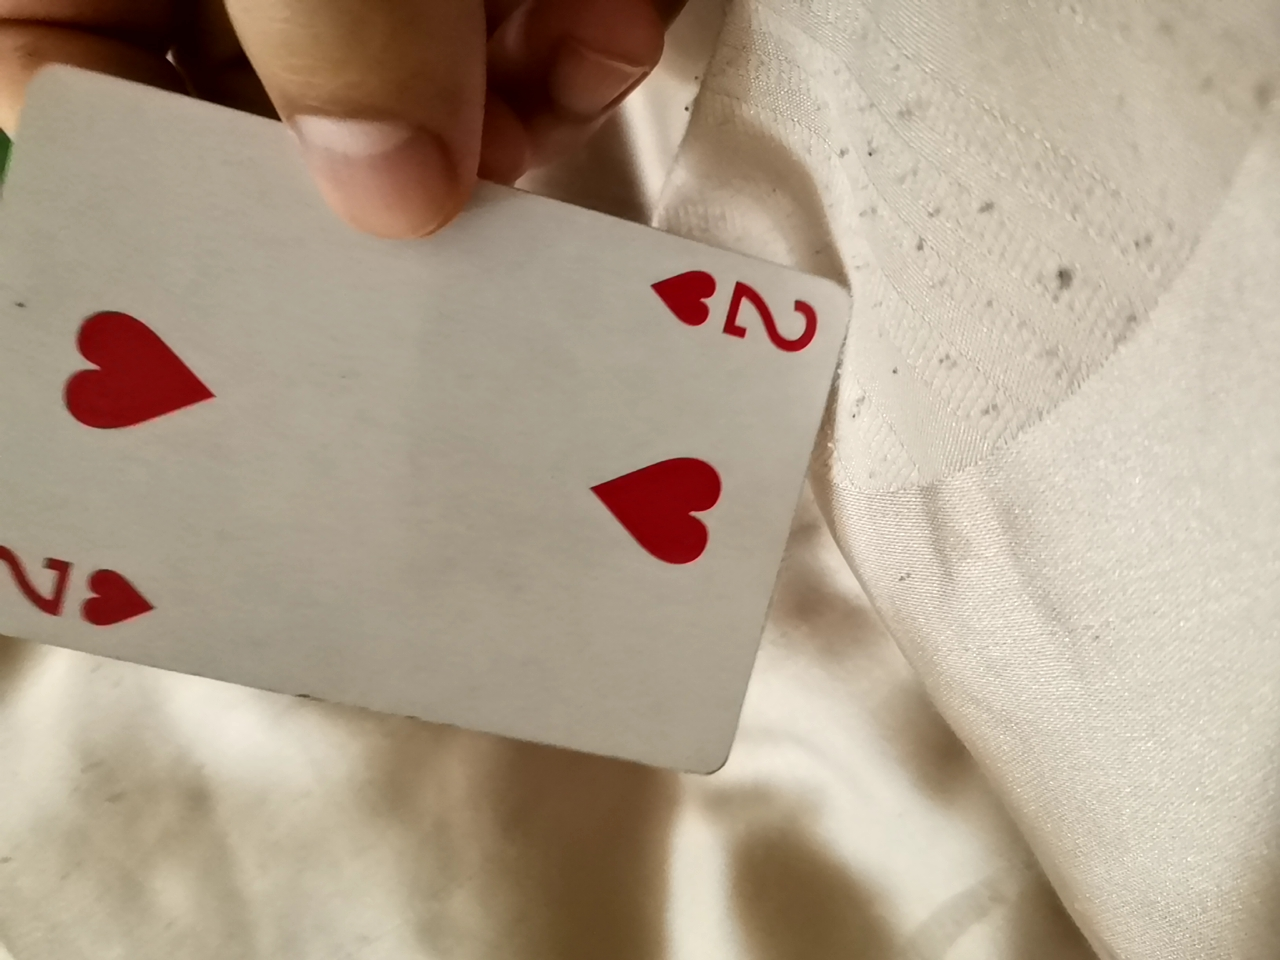hx 2: (1, 71, 877, 803)
